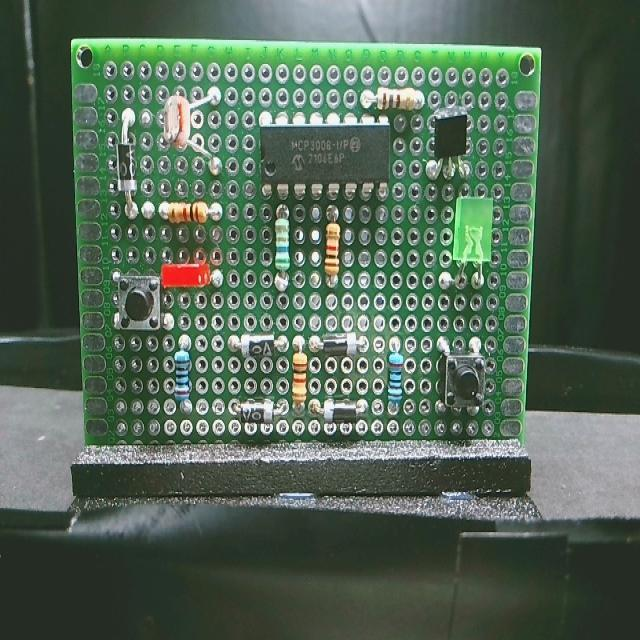IC: (256, 108, 392, 209)
cds: (159, 82, 227, 182)
diode: (112, 107, 142, 225), (228, 332, 290, 364), (308, 335, 371, 364), (310, 398, 369, 426), (231, 400, 289, 426)
led: (448, 190, 500, 297), (160, 259, 225, 297)
resistor: (155, 196, 227, 230), (289, 331, 312, 428), (360, 86, 428, 118), (172, 334, 197, 419), (271, 202, 293, 298), (321, 206, 345, 292), (385, 332, 405, 423)
switch: (435, 335, 490, 421), (111, 268, 170, 336)
transistor: (429, 114, 473, 182)
